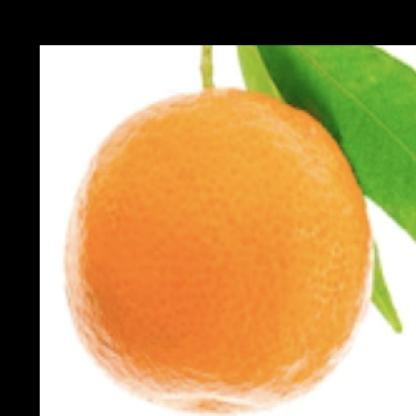fresh: (70, 86, 361, 401)
